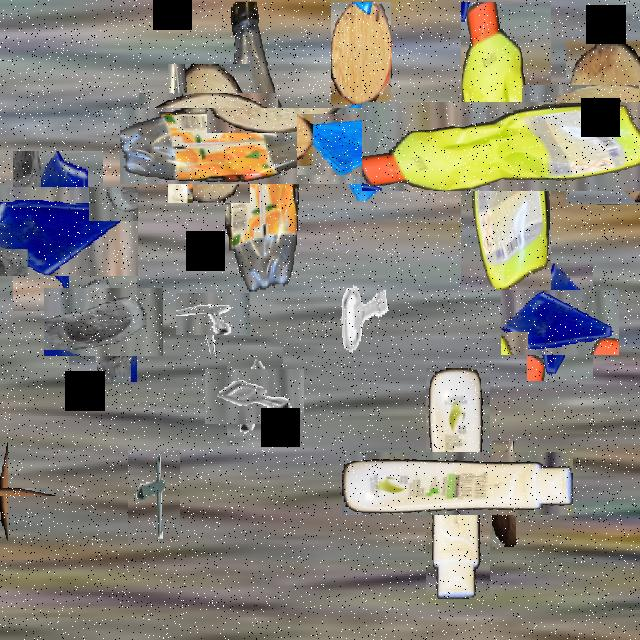glass: (0, 168, 120, 293), (56, 275, 150, 369), (514, 276, 606, 368), (309, 101, 395, 187)
metal: (333, 263, 393, 370), (216, 358, 294, 435), (128, 450, 180, 542), (184, 285, 242, 344)
plastic: (412, 52, 600, 240), (172, 55, 354, 237), (384, 410, 532, 557)
wood: (154, 78, 264, 189), (543, 63, 640, 181), (331, 2, 391, 105), (472, 461, 536, 527), (0, 448, 47, 536)
